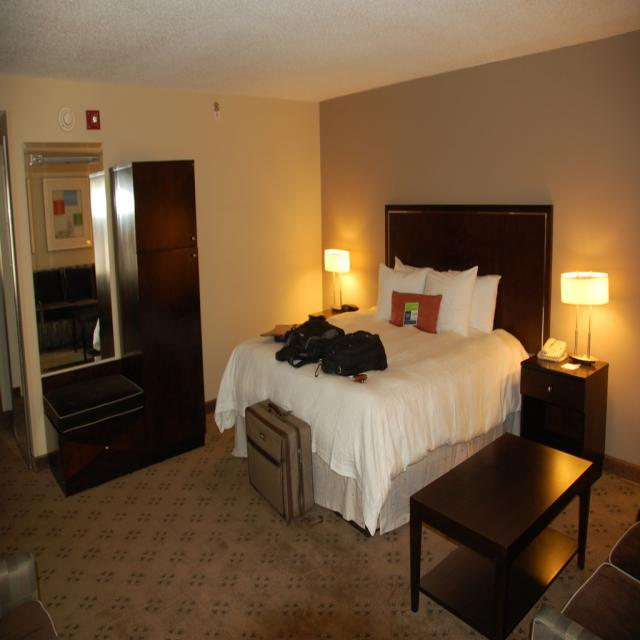desk: (380, 392, 628, 626)
